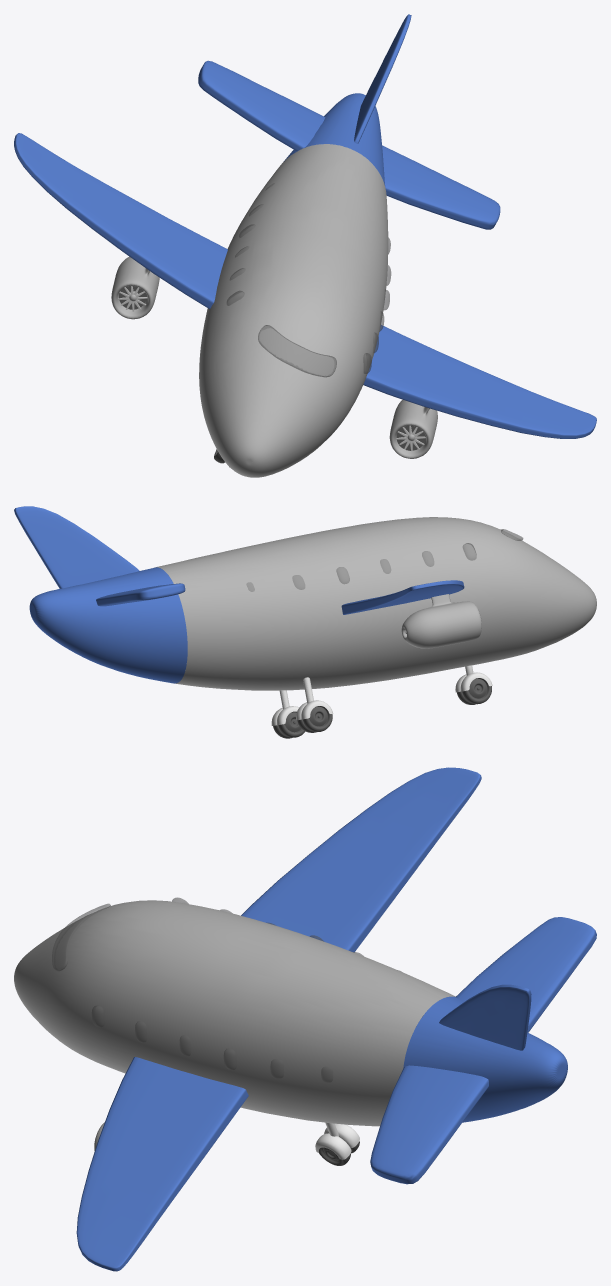
File: airplane-3d-animated-icon-1179995382480.glb
The picture shows the model from 3 angles, top to bottom: view 1: azimuth 30°, elevation 25°; view 2: azimuth 150°, elevation 25°; view 3: azimuth 270°, elevation 25°; orthographic projection. The views are drawn at different scales.
Visible parts, largest first — view 1: body.007; view 2: body.007; view 3: body.007.
Boxes of the visible parts, x1,y1,x2,y2 form: body.007: [14, 14, 596, 477]; body.007: [14, 506, 596, 738]; body.007: [14, 767, 596, 1271].
Bounding box in the file's own units: 2.7 × 1.47 × 2.71.
